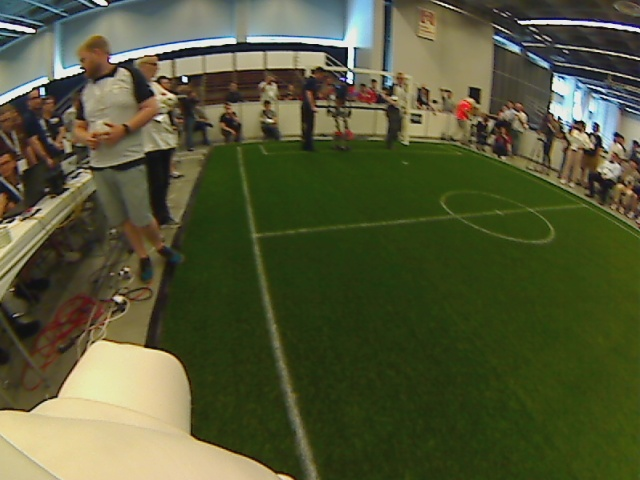goalpost: (298, 123, 335, 153), (397, 130, 424, 158)
